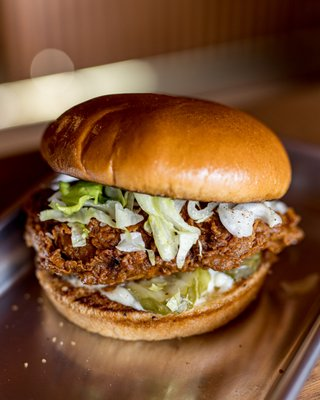soup: (22, 91, 306, 344)
